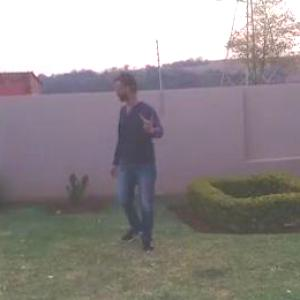takeoff-hand: (138, 105, 160, 135)
